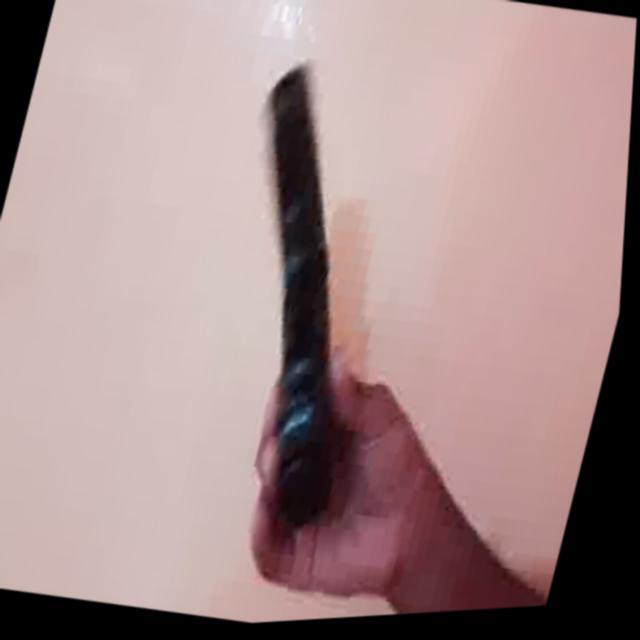weapon: (170, 52, 443, 545)
